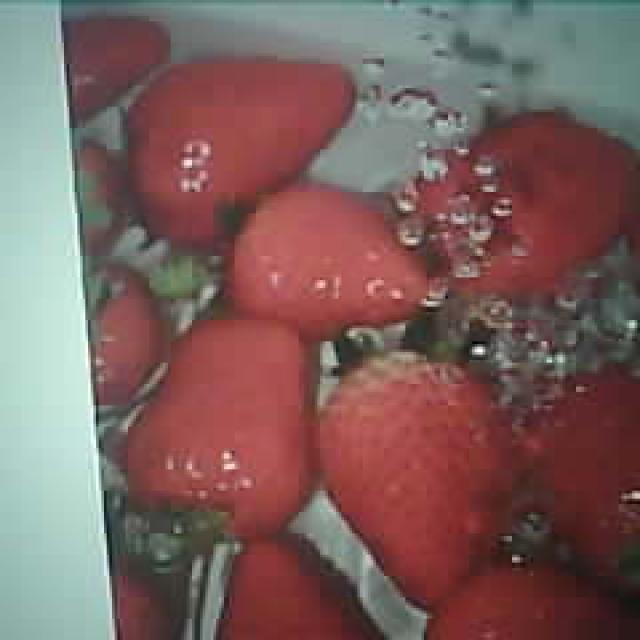ripe: (317, 354, 510, 606)
